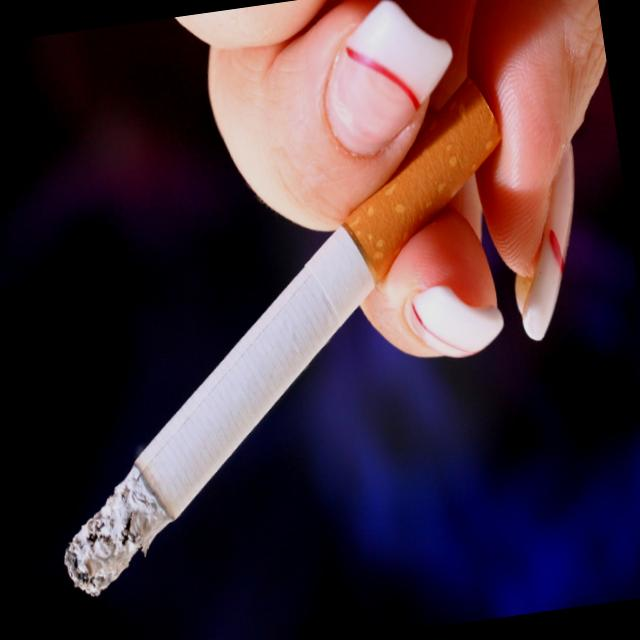smoke: (3, 71, 562, 640)
